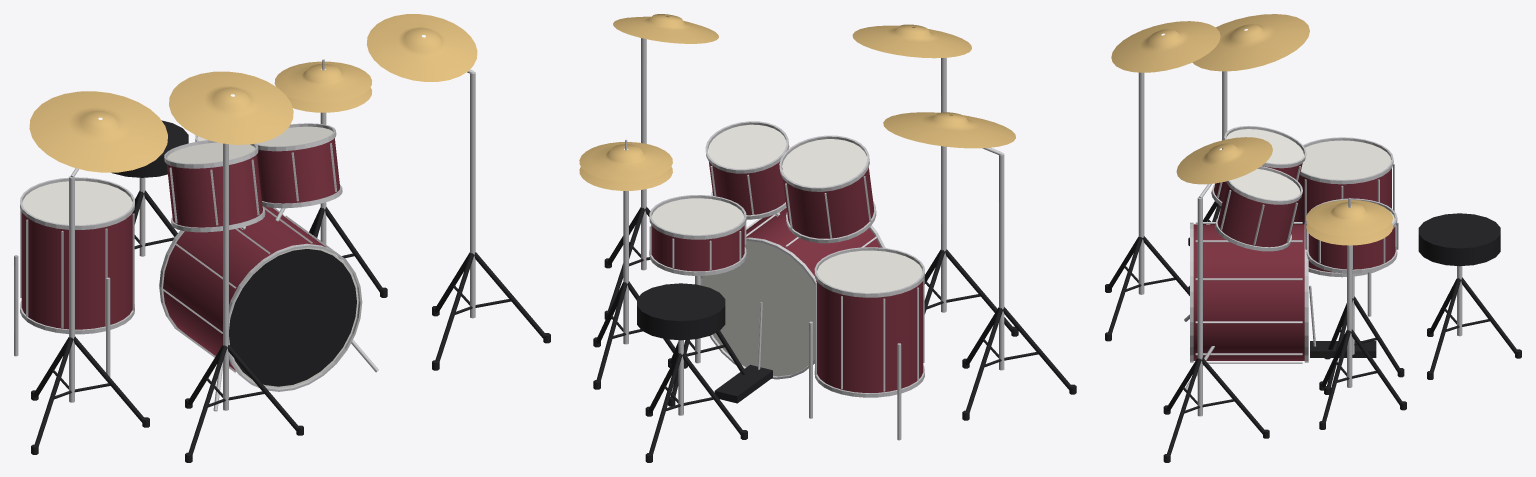
Rendered from drum-set.glb.
The picture shows the model from 3 angles, left to right: view 1: azimuth 30°, elevation 25°; view 2: azimuth 150°, elevation 25°; view 3: azimuth 270°, elevation 25°; orthographic projection. The views are drawn at different scales.
Visible parts, largest first — view 1: shell, cymbal, metal, artwork, frame, head; view 2: head, shell, metal, frame, cymbal; view 3: shell, cymbal, metal, frame, head.
Part boxes in pixels (x1,y1,x2,y2): shell: (21, 138, 339, 370); cymbal: (29, 14, 477, 172); metal: (14, 59, 475, 411); artwork: (229, 249, 356, 386); frame: (31, 120, 550, 462); head: (22, 126, 358, 388); head: (651, 124, 922, 376); shell: (651, 162, 923, 392); metal: (623, 38, 1004, 440); frame: (593, 207, 1076, 462); cymbal: (579, 14, 1015, 190); shell: (1193, 163, 1395, 360); cymbal: (1111, 14, 1392, 245); metal: (1138, 71, 1462, 416); frame: (1105, 201, 1521, 462); head: (1226, 129, 1394, 223).
Size of the model in its own units: 2.12 by 1.31 by 1.7.
